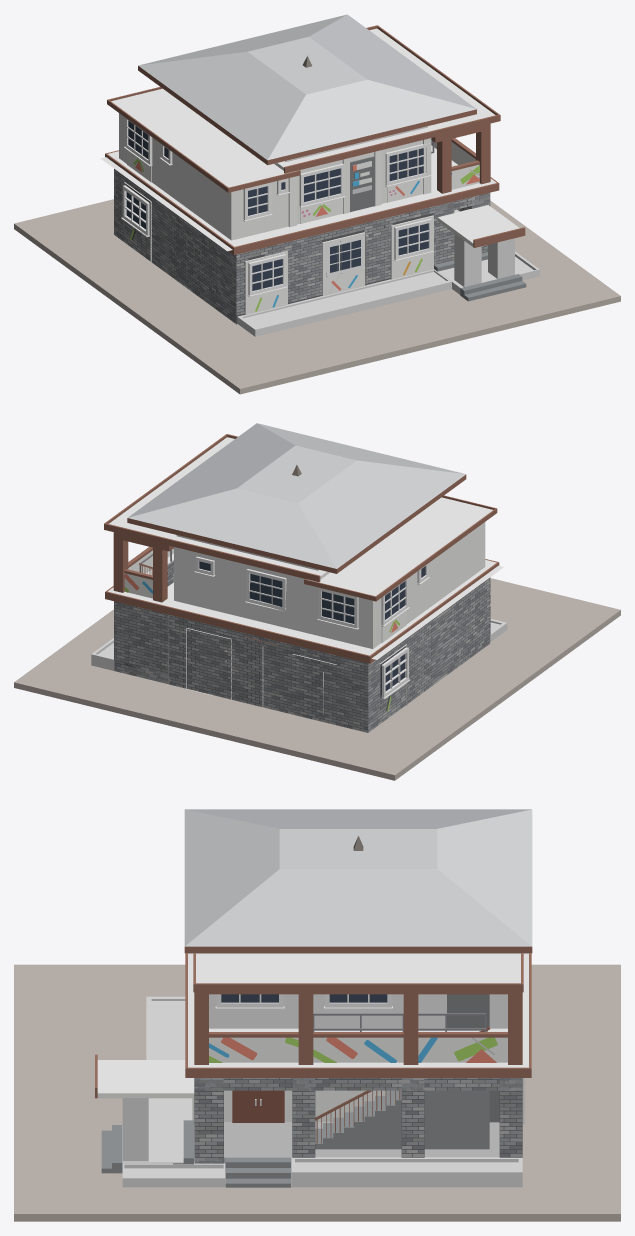
File: pplg.glb
The picture shows the model from 3 angles, top to bottom: view 1: azimuth 30°, elevation 25°; view 2: azimuth 150°, elevation 25°; view 3: azimuth 270°, elevation 25°; orthographic projection. The views are drawn at different scales.
Parts seen in each view (by area): view 1: paving, white, roof2, roof, brown, frame, mortar, wall, Cube.002, glass, stone2, stone1 (+8 smaller); view 2: paving, roof2, white, roof, mortar, wall, brown, stone2, stone1, stone5, stone4, stone3 (+4 smaller); view 3: paving, roof2, white, roof, brown, step_dark, Cube.001, wall, floor, mortar, Cube.002, stone2 (+17 smaller).
Boxes of the visible parts, x1,y1,x2,y2 form: paving: (14,199,620,394); white: (100,28,519,315); roof2: (138,14,475,159); roof: (140,14,476,159); brown: (105,25,525,254); frame: (121,118,433,296); mortar: (114,169,489,324); wall: (119,113,422,240); Cube.002: (237,269,451,336); glass: (126,120,428,290); stone2: (114,173,490,320); stone1: (114,169,490,314); paving: (14,578,620,780); roof2: (128,423,465,568); white: (108,437,503,714); roof: (128,423,464,568); mortar: (114,563,490,732); wall: (174,522,485,648); brown: (104,434,499,663); stone2: (114,568,490,728); stone1: (114,578,490,732); stone5: (117,565,490,726); stone4: (114,575,490,729); stone3: (114,576,490,732); paving: (14,964,620,1221); roof2: (185,809,531,946); white: (97,953,530,1124); roof: (184,809,532,946); brown: (95,946,532,1143); step_dark: (315,1090,489,1149); Cube.001: (291,1157,522,1187); wall: (209,994,507,1028); floor: (194,1122,499,1172); mortar: (194,1078,522,1162); Cube.002: (146,996,194,1125); stone2: (194,1078,522,1163).
Bounding box in the file's own units: 18 × 9.12 × 18.5.
